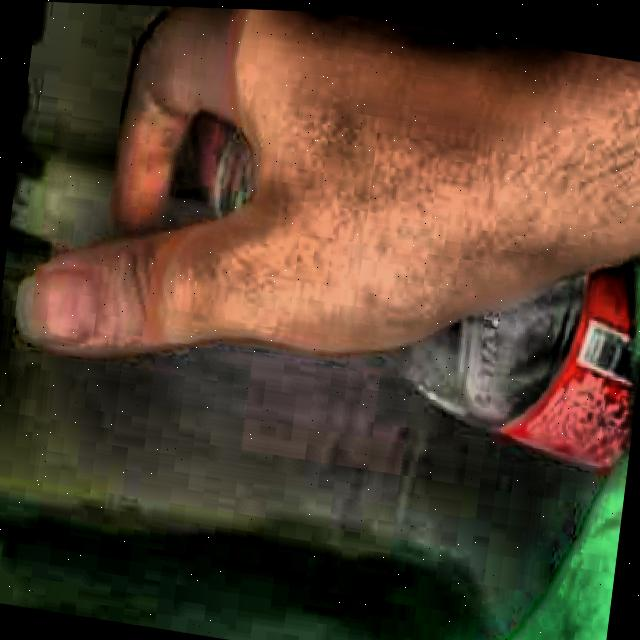glass: (390, 260, 635, 467), (212, 123, 255, 211)
